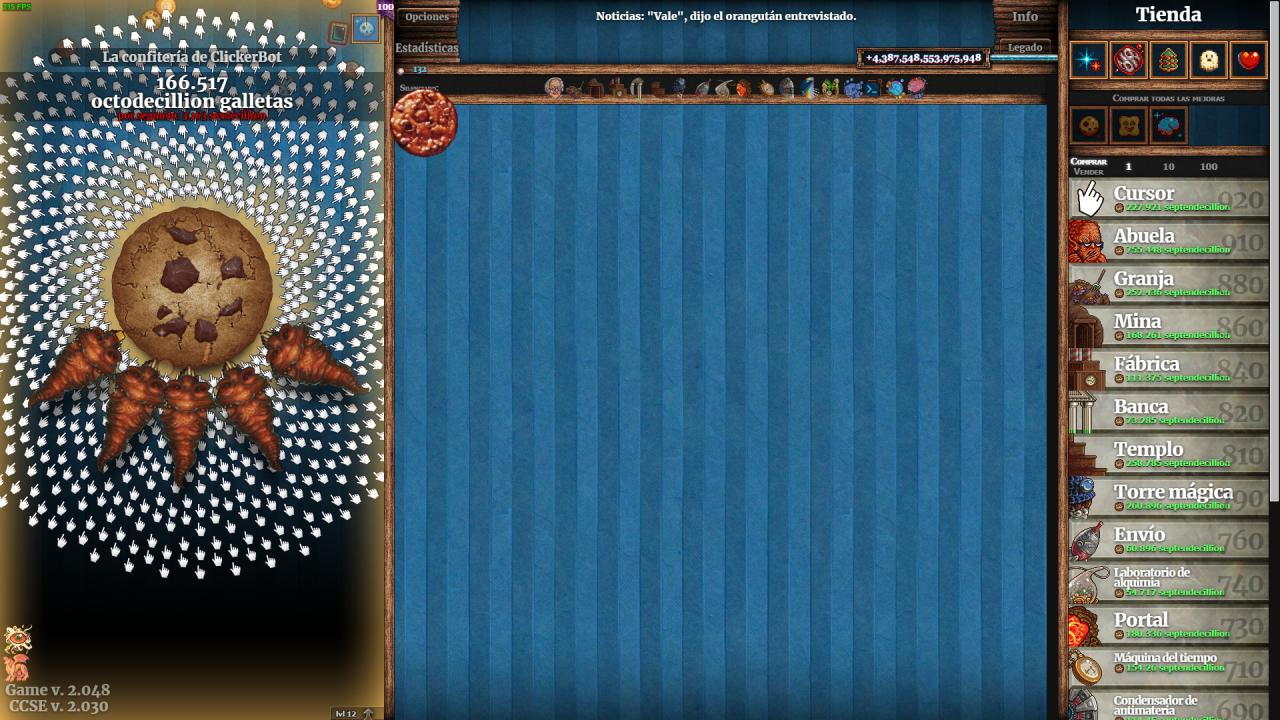RedCookie: (389, 87, 460, 159)
